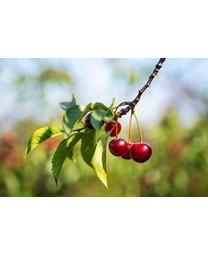cherry: (130, 143, 152, 162), (110, 139, 127, 155), (106, 122, 120, 136)
